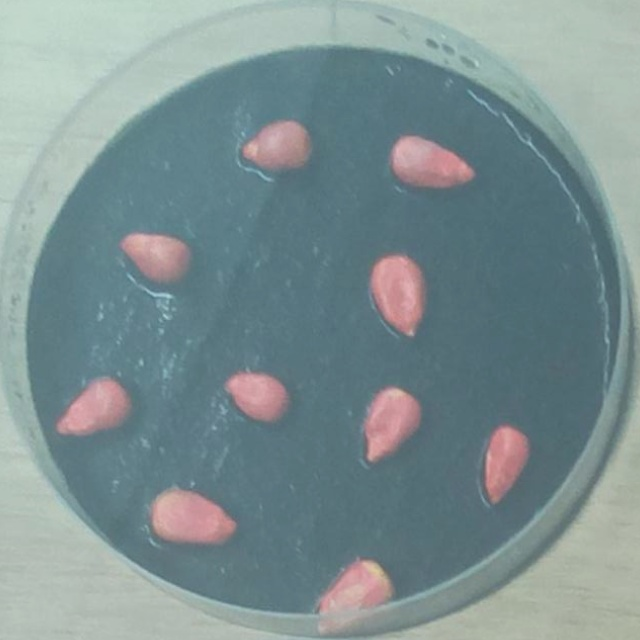Zea mays: (311, 552, 403, 639), (143, 482, 245, 554), (384, 128, 484, 198), (50, 371, 139, 445), (358, 380, 431, 470), (364, 249, 433, 343), (474, 420, 537, 513), (114, 225, 200, 293), (236, 114, 322, 181), (220, 365, 296, 431)
